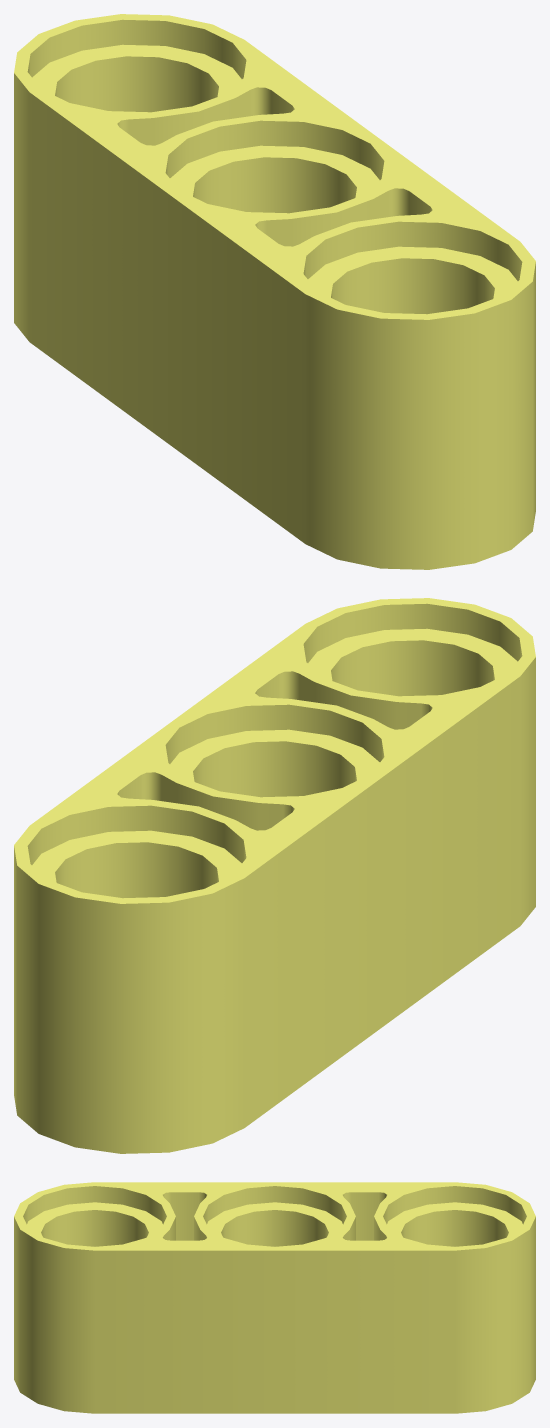
3 views of the same model, one above another, from view 1: azimuth 30°, elevation 25°; view 2: azimuth 150°, elevation 25°; view 3: azimuth 270°, elevation 25° (orthographic). The views are drawn at different scales.
Visible parts, largest first — view 1: 32523.dat; view 2: 32523.dat; view 3: 32523.dat.
Part boxes in pixels (x1,y1,x2,y2): 32523.dat: (14, 14, 535, 569); 32523.dat: (14, 598, 535, 1153); 32523.dat: (14, 1182, 535, 1413).
Size of the model in its own units: 0.0072 by 0.008 by 0.0232.
